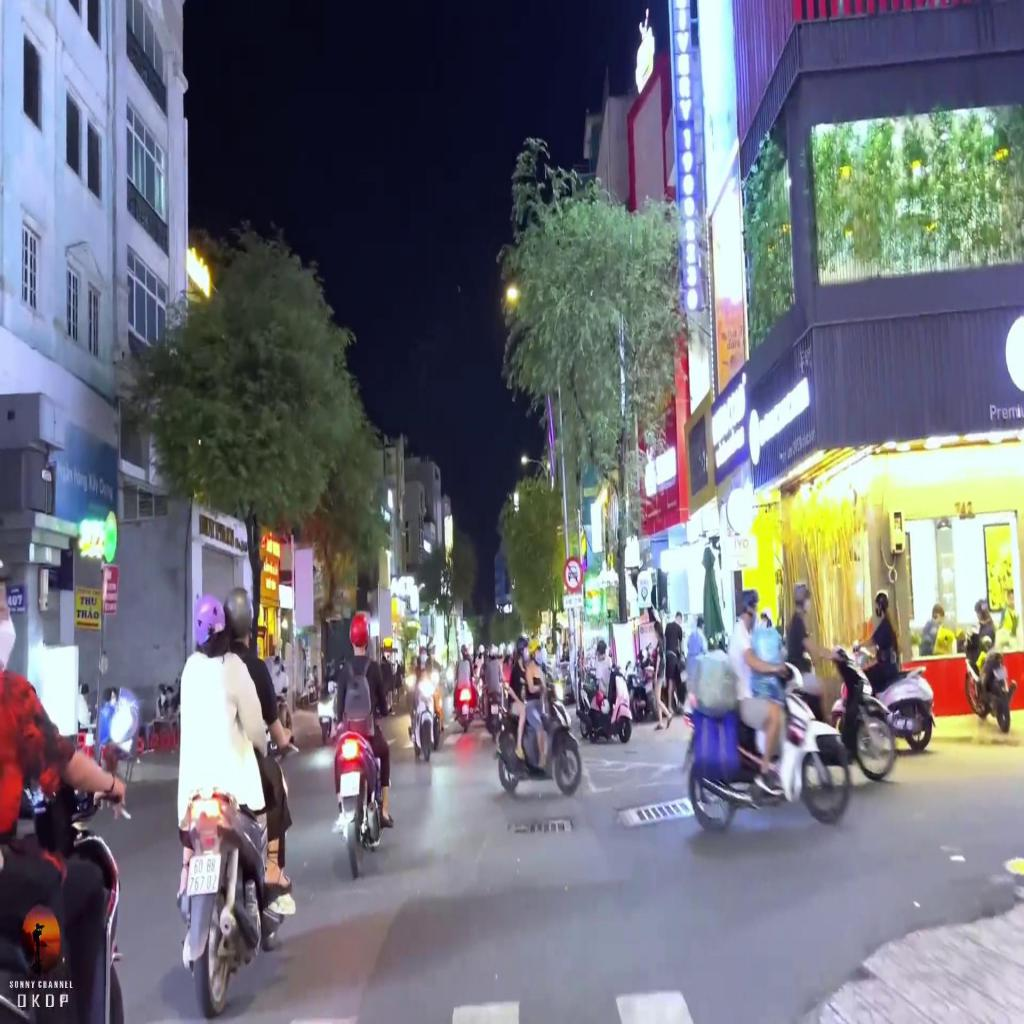cam_o_to: (563, 556, 584, 592)
khac: (562, 596, 583, 610)
